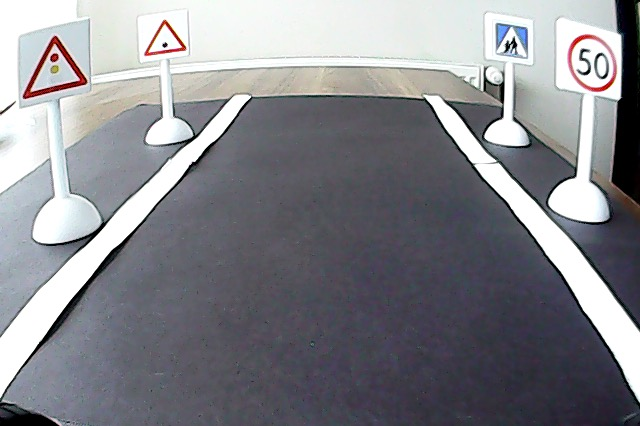green light: (141, 17, 190, 57)
red light: (21, 31, 90, 100)
school crossing: (490, 16, 534, 62)
speed limit 50: (563, 29, 620, 96)
